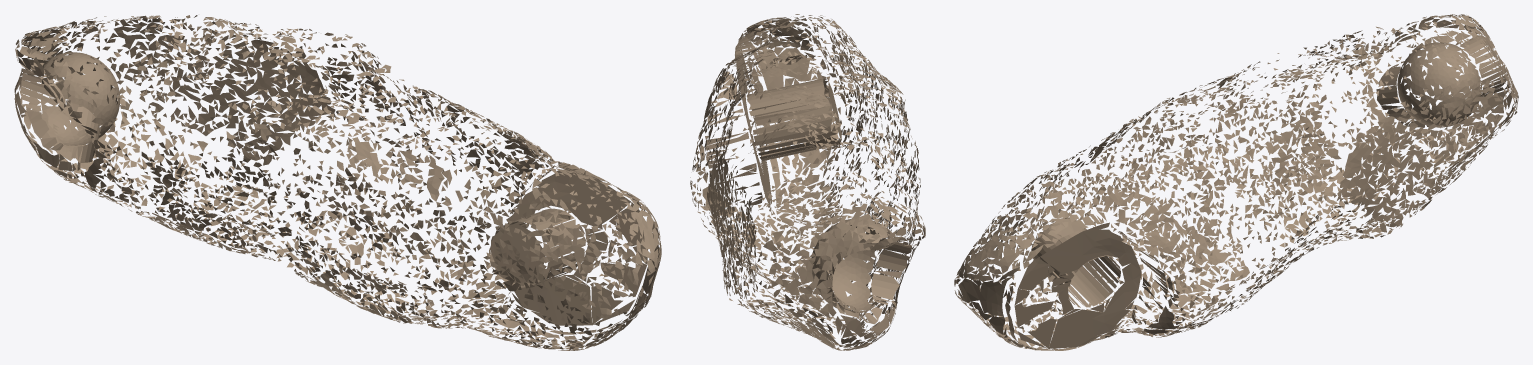
Rendered from rocky_brazo_izquierdo.obj.
3 renders of one model, left to right at view 1: azimuth 30°, elevation 25°; view 2: azimuth 150°, elevation 25°; view 3: azimuth 270°, elevation 25°, orthographic. The views are drawn at different scales.
Bounding box in the file's own units: 0.2513 × 0.1537 × 0.3463.
Materials: 1 (1 with a texture image).
